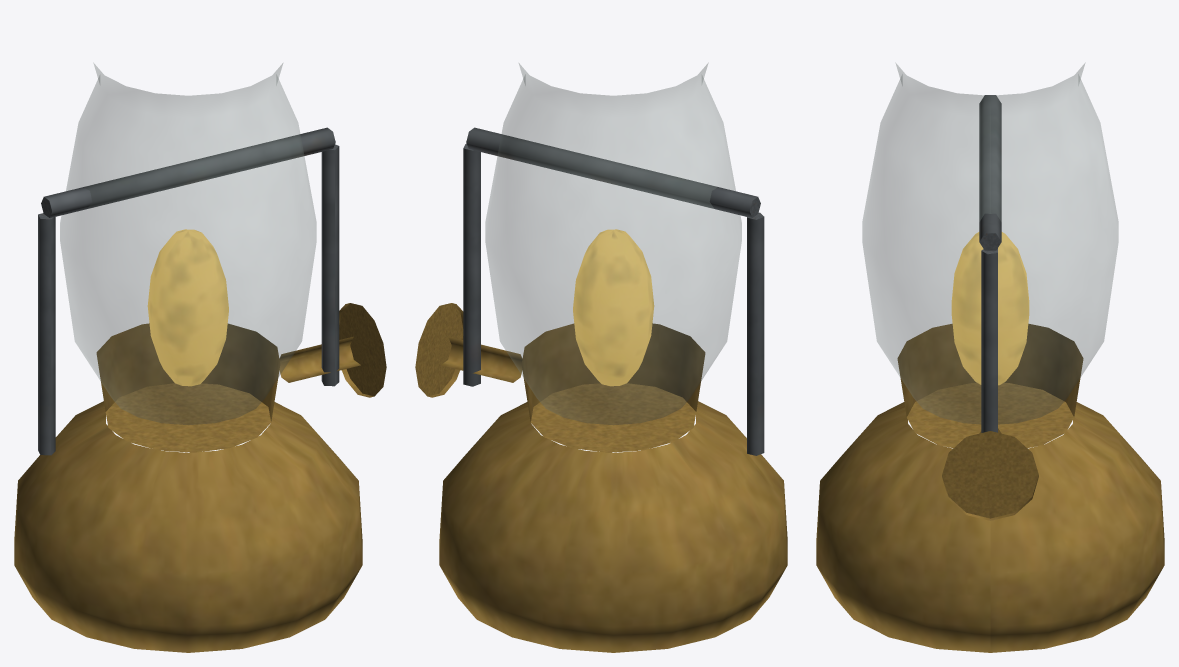
The model's file is prop.lamp.teplok.glb.
The picture shows the model from 3 angles, left to right: view 1: azimuth 30°, elevation 25°; view 2: azimuth 150°, elevation 25°; view 3: azimuth 270°, elevation 25°; orthographic projection.
Parts seen in each view (by area): view 1: prop.lamp.teplok; view 2: prop.lamp.teplok; view 3: prop.lamp.teplok.
Part boxes in pixels (box(x1,y1,x2,y2)): prop.lamp.teplok: box(14, 63, 386, 652); prop.lamp.teplok: box(415, 63, 787, 652); prop.lamp.teplok: box(816, 63, 1164, 652).
Bounding box in the file's own units: 0.203 × 0.315 × 0.1871.
4 materials, 4 textured.
